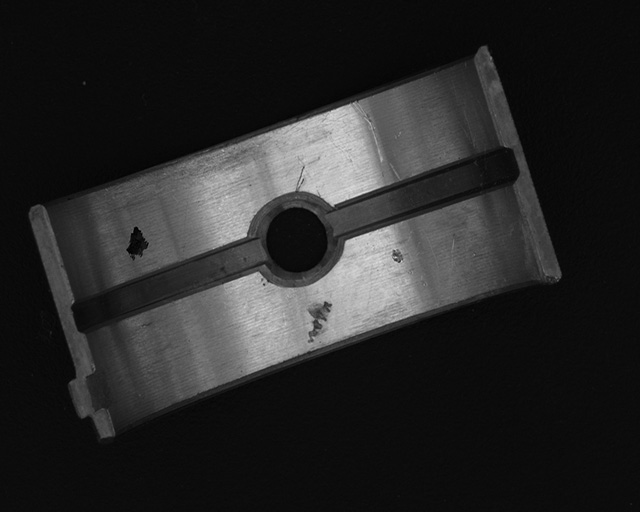blot: (126, 225, 149, 262)
bruise: (307, 300, 335, 344), (392, 247, 405, 265)
gap: (73, 237, 264, 331), (332, 150, 516, 236)
hole: (251, 191, 341, 283)
nick: (351, 100, 387, 163), (294, 165, 307, 195)
scratch: (99, 137, 259, 200)
